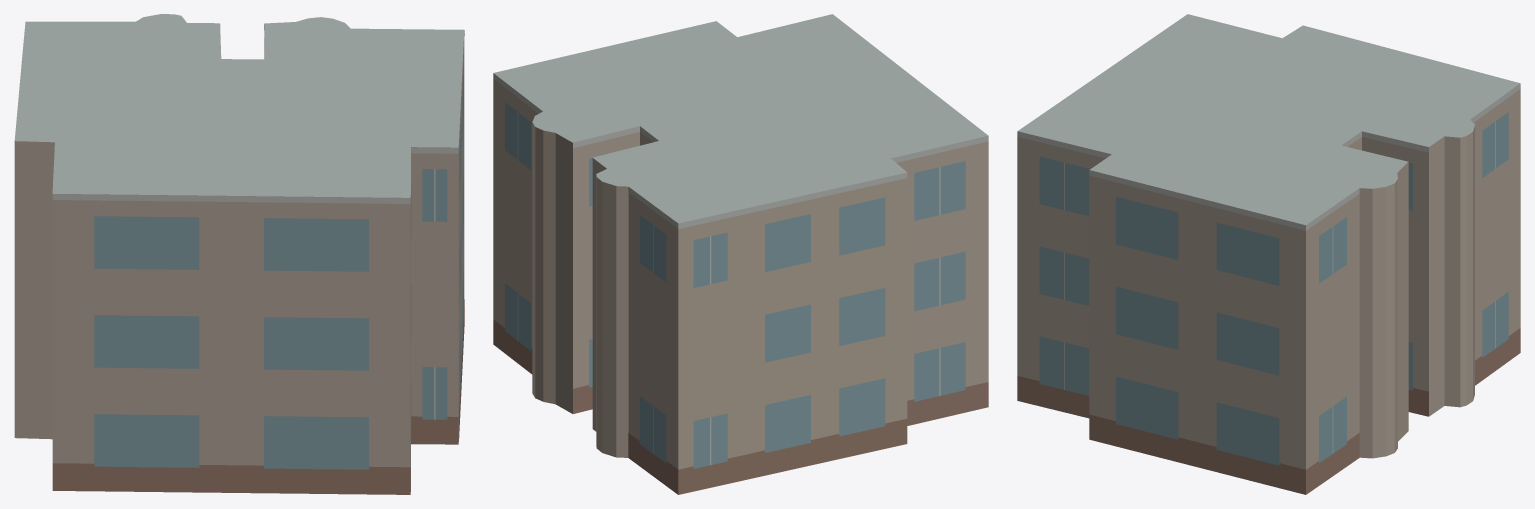
File: survey-upis-33047082.glb
The picture shows the model from 3 angles, left to right: view 1: azimuth 30°, elevation 25°; view 2: azimuth 150°, elevation 25°; view 3: azimuth 270°, elevation 25°; orthographic projection. The views are drawn at different scales.
Parts seen in each view (by area): view 1: survey-upis-33047082.tmp; view 2: survey-upis-33047082.tmp; view 3: survey-upis-33047082.tmp.
Part boxes in pixels (x1,y1,x2,y2): survey-upis-33047082.tmp: (14, 14, 464, 494); survey-upis-33047082.tmp: (493, 14, 988, 494); survey-upis-33047082.tmp: (1017, 14, 1520, 494).
Bounding box in the file's own units: 19.84 × 11.8 × 19.97.
